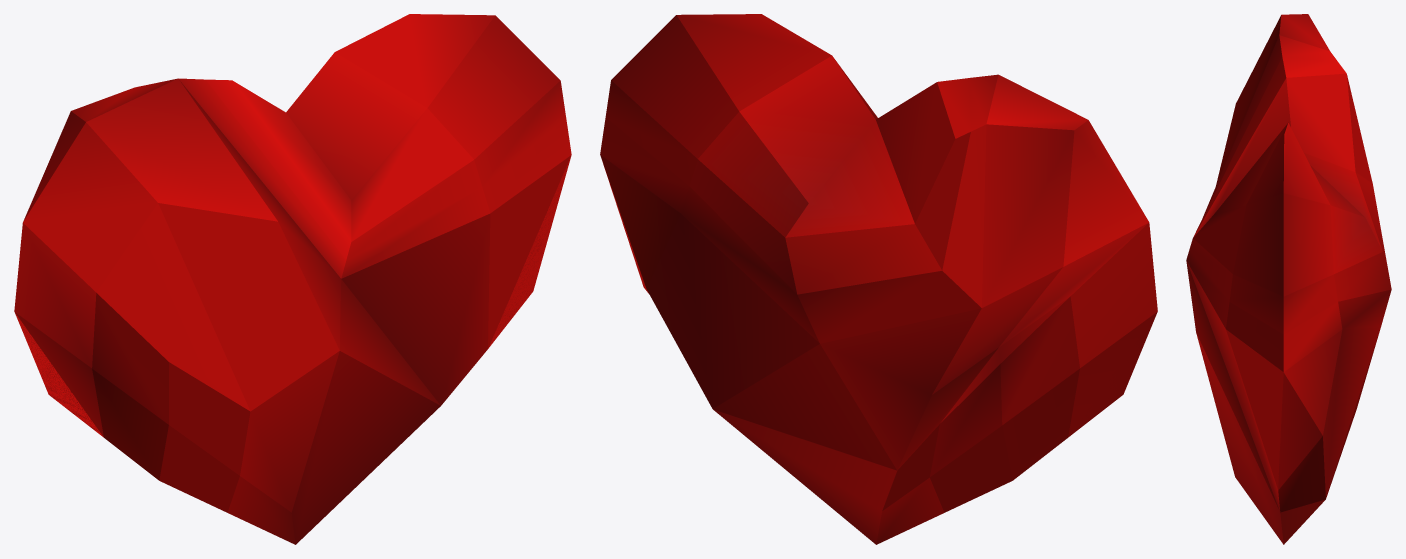
The model's file is heart.fbx.
3 renders of one model, left to right at view 1: azimuth 30°, elevation 25°; view 2: azimuth 150°, elevation 25°; view 3: azimuth 270°, elevation 25°, orthographic. The views are drawn at different scales.
Parts seen in each view (by area): view 1: Icosphere; view 2: Icosphere; view 3: Icosphere.
Part boxes in pixels (box(x1,y1,x2,y2)): Icosphere: box(14, 14, 571, 544); Icosphere: box(600, 14, 1157, 544); Icosphere: box(1186, 14, 1391, 544).
Size of the model in its own units: 0.5283 by 0.4555 by 0.1838.
